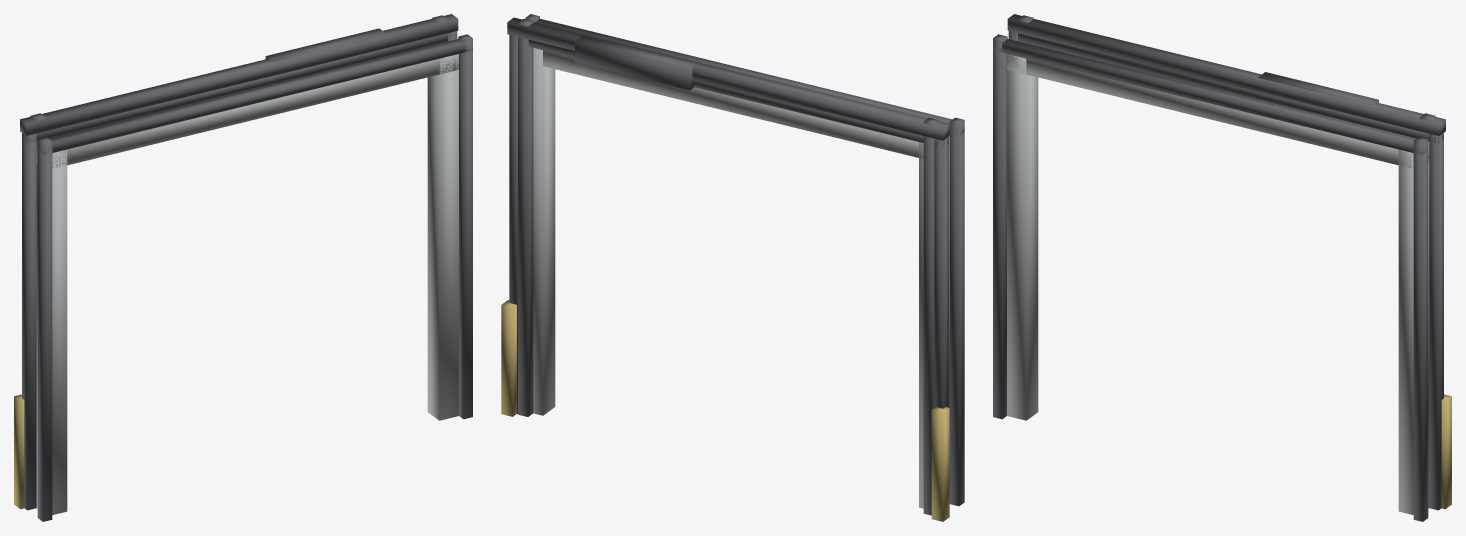
File: bay_opening_loading_bay_w360_h320_d20.glb
The picture shows the model from 3 angles, left to right: view 1: azimuth 30°, elevation 25°; view 2: azimuth 150°, elevation 25°; view 3: azimuth 330°, elevation 25°; orthographic projection.
Visible parts, largest first — view 1: world; view 2: world; view 3: world.
Boxes of the visible parts, left/top/right/bottom form: world: left=14, top=14, right=472, bottom=521; world: left=501, top=14, right=964, bottom=521; world: left=993, top=14, right=1451, bottom=521.
Bounding box in the file's own units: 4.23 × 3.59 × 0.422.
